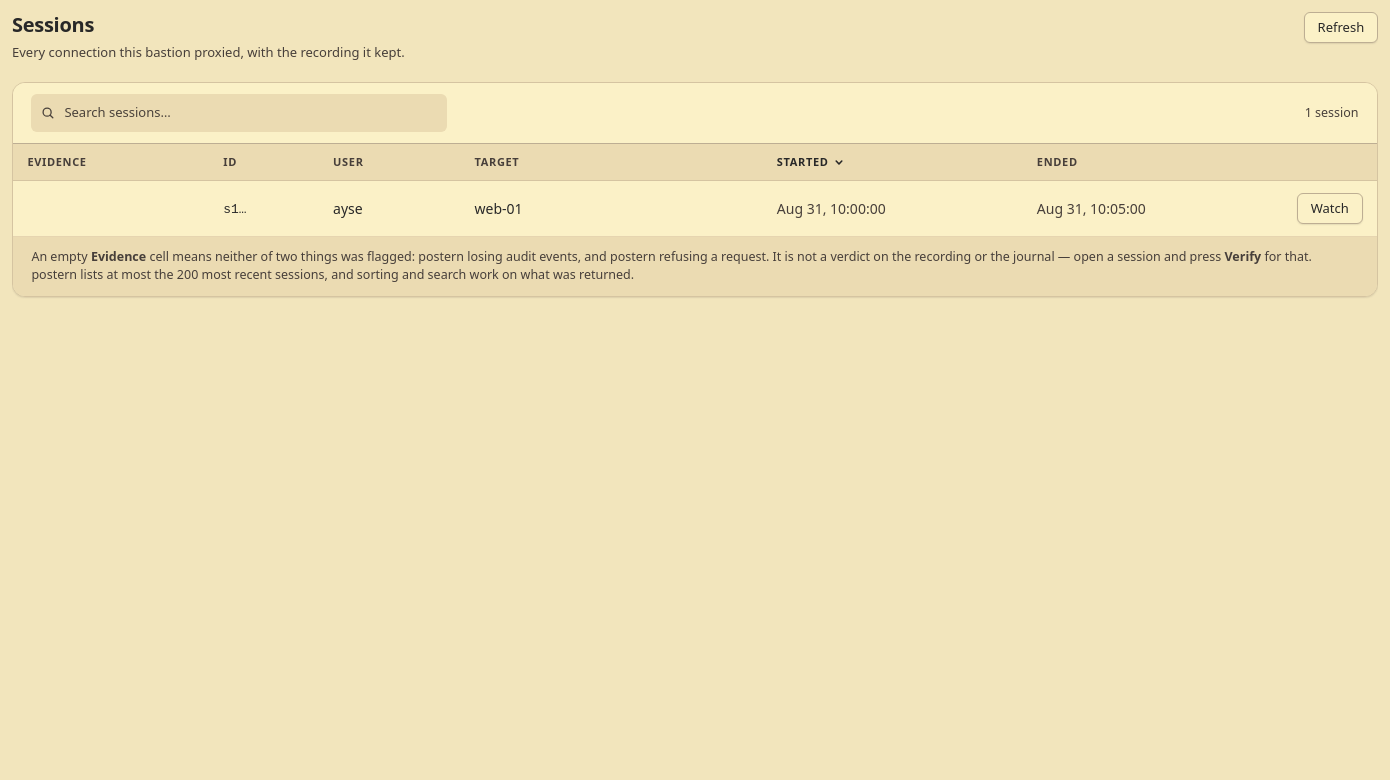
it: SFTP dosya olayları › reddedilen işlemi gizlemiyor, reddedildi diye gösteriyor
Click the button "Watch": click(1330, 208) [1297,193,1363,224]
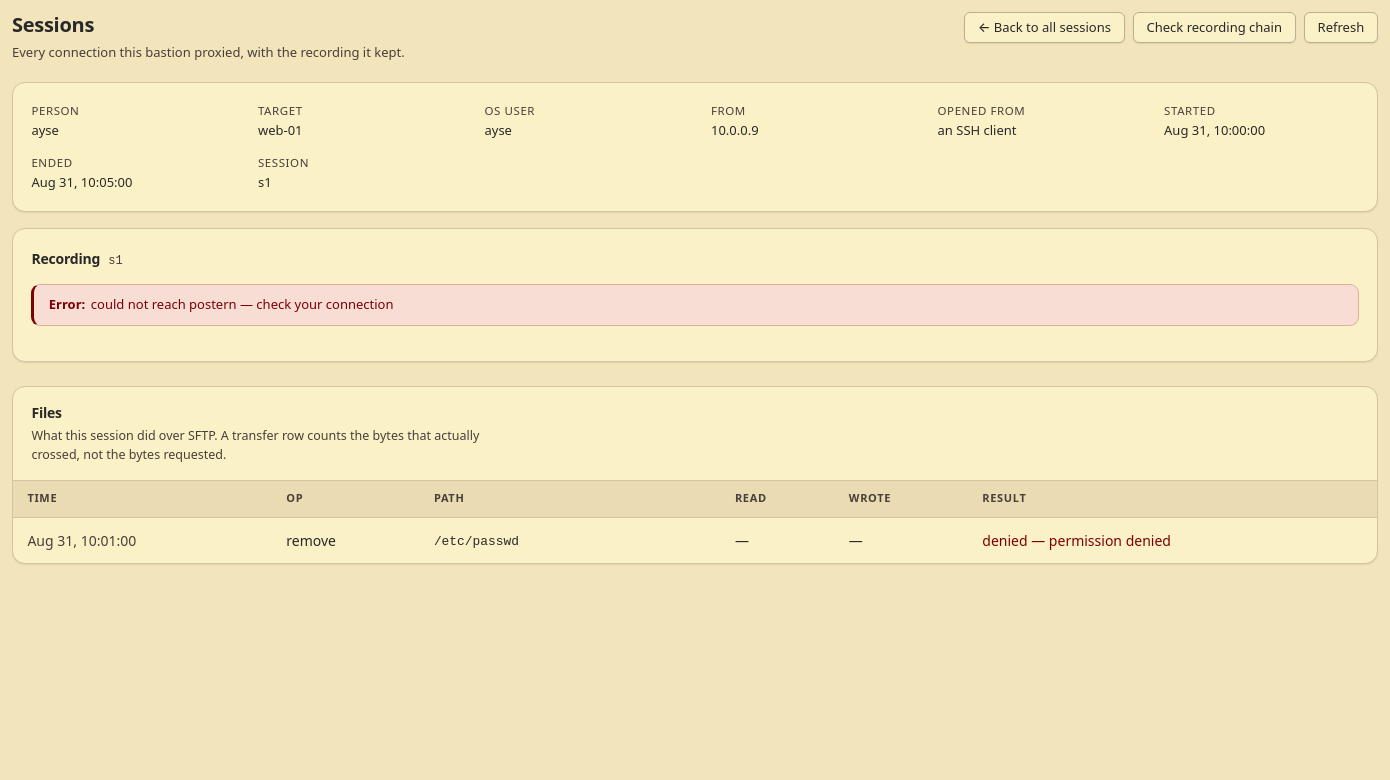
Result: the text "/etc/passwd" is shown at [434,534,519,549]
Result: the text "denied — permission denied" is shown at [982,531,1171,550]
